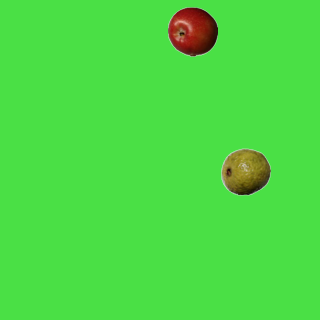Apple Braeburn: (167, 6, 217, 56)
Guava: (220, 146, 270, 196)
